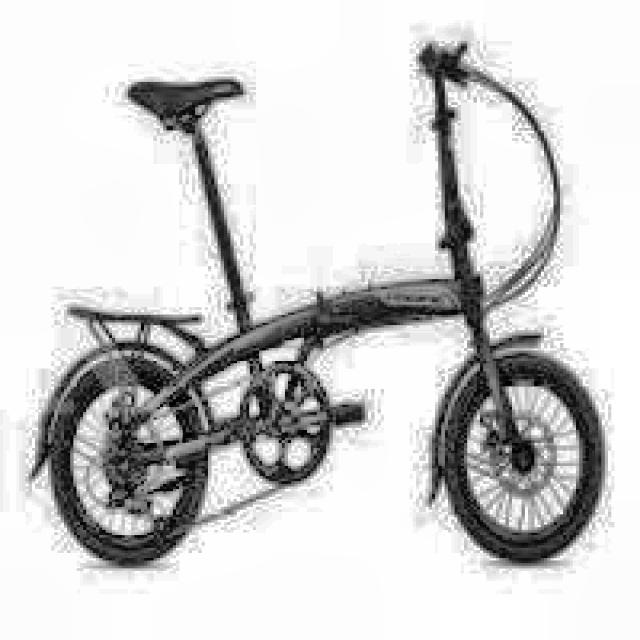motorcycle: (34, 39, 604, 598)
